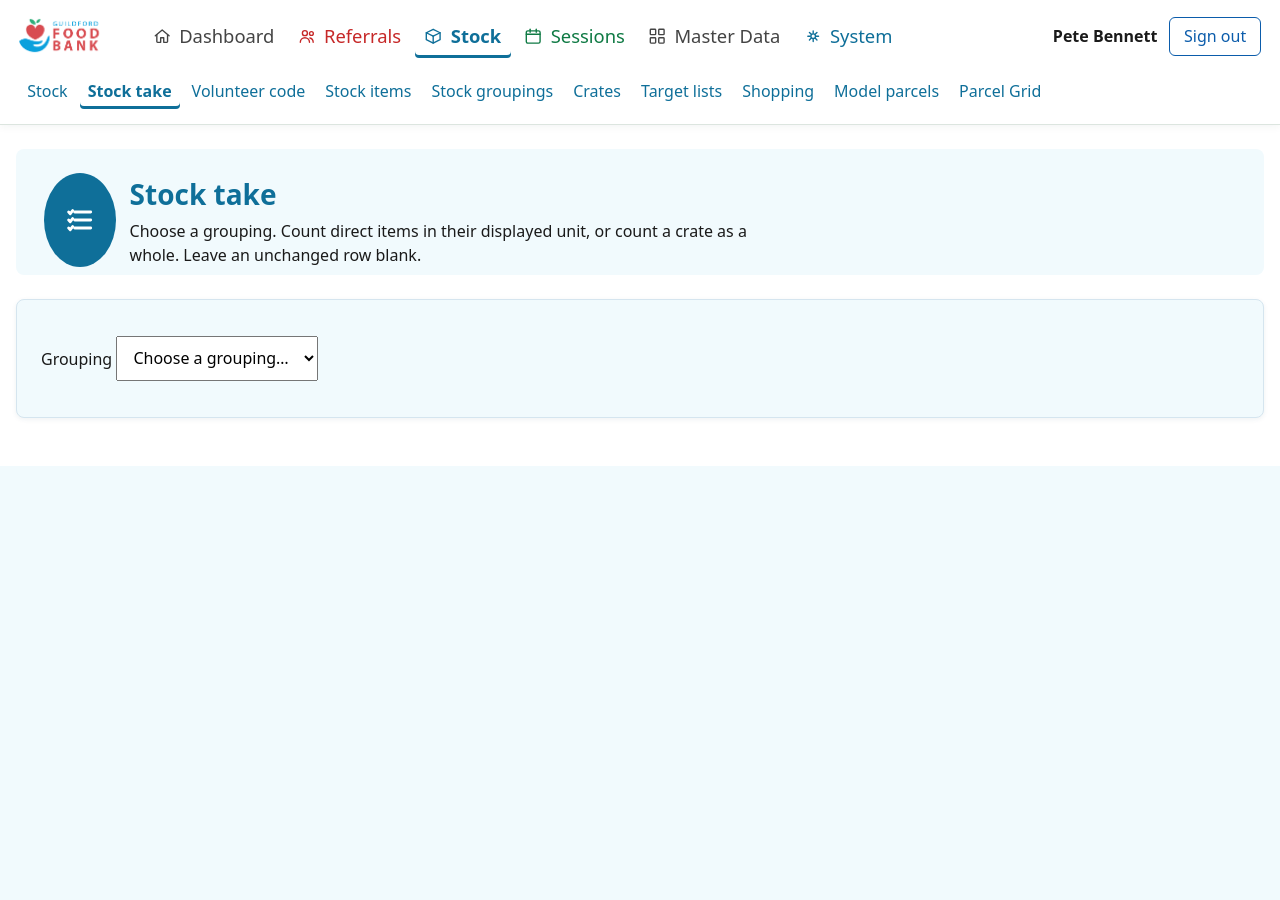
Test case: saving a stock take page › does not post when every entered number matches the current level
Select "Non-perishable" in the dropdown labelled "Grouping" at (217, 358), box [116,336,318,381]
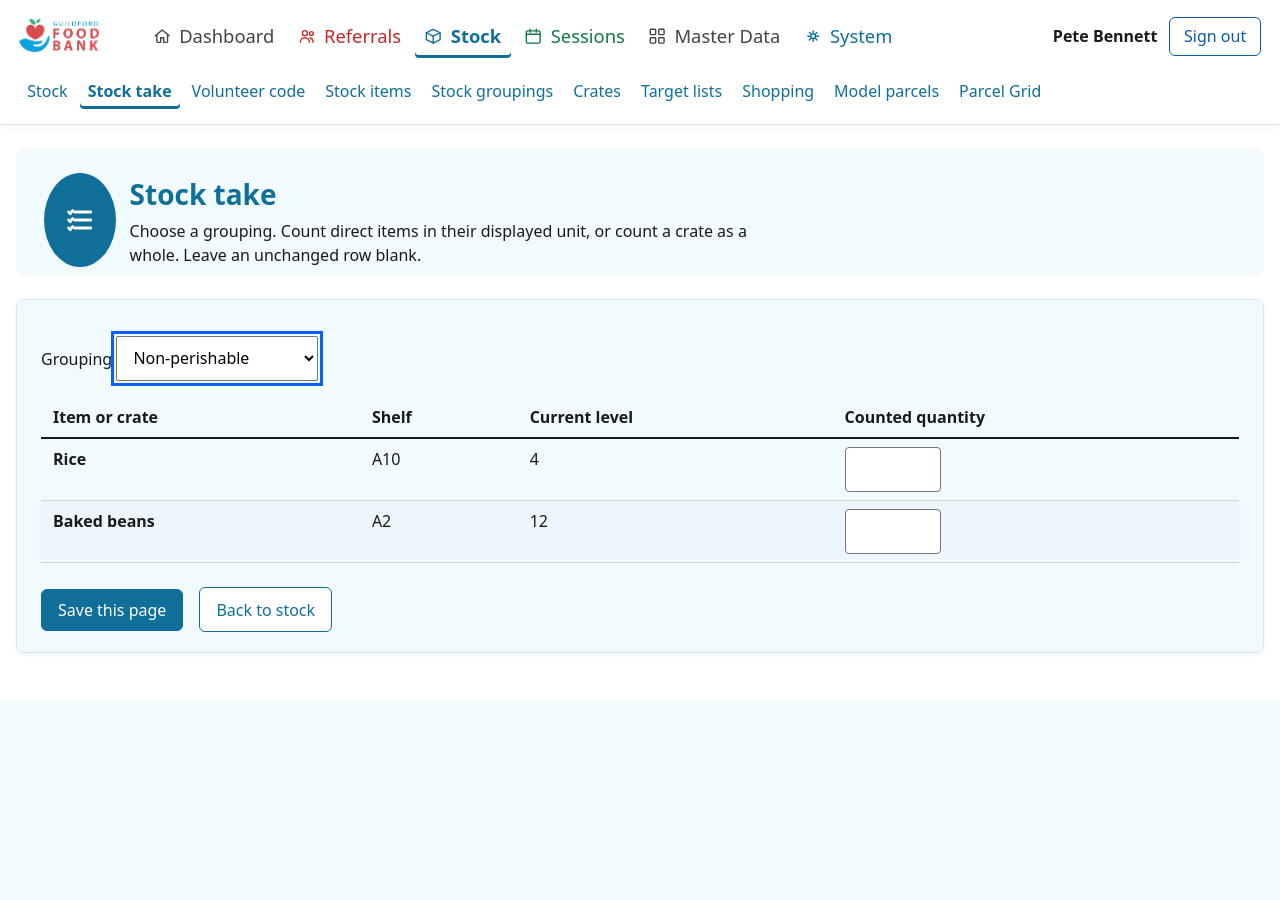
Type "12" into the field named "Counted Baked beans individually" in the row of "Baked beans".
click(892, 532); type("12")  # box [844,509,940,554]
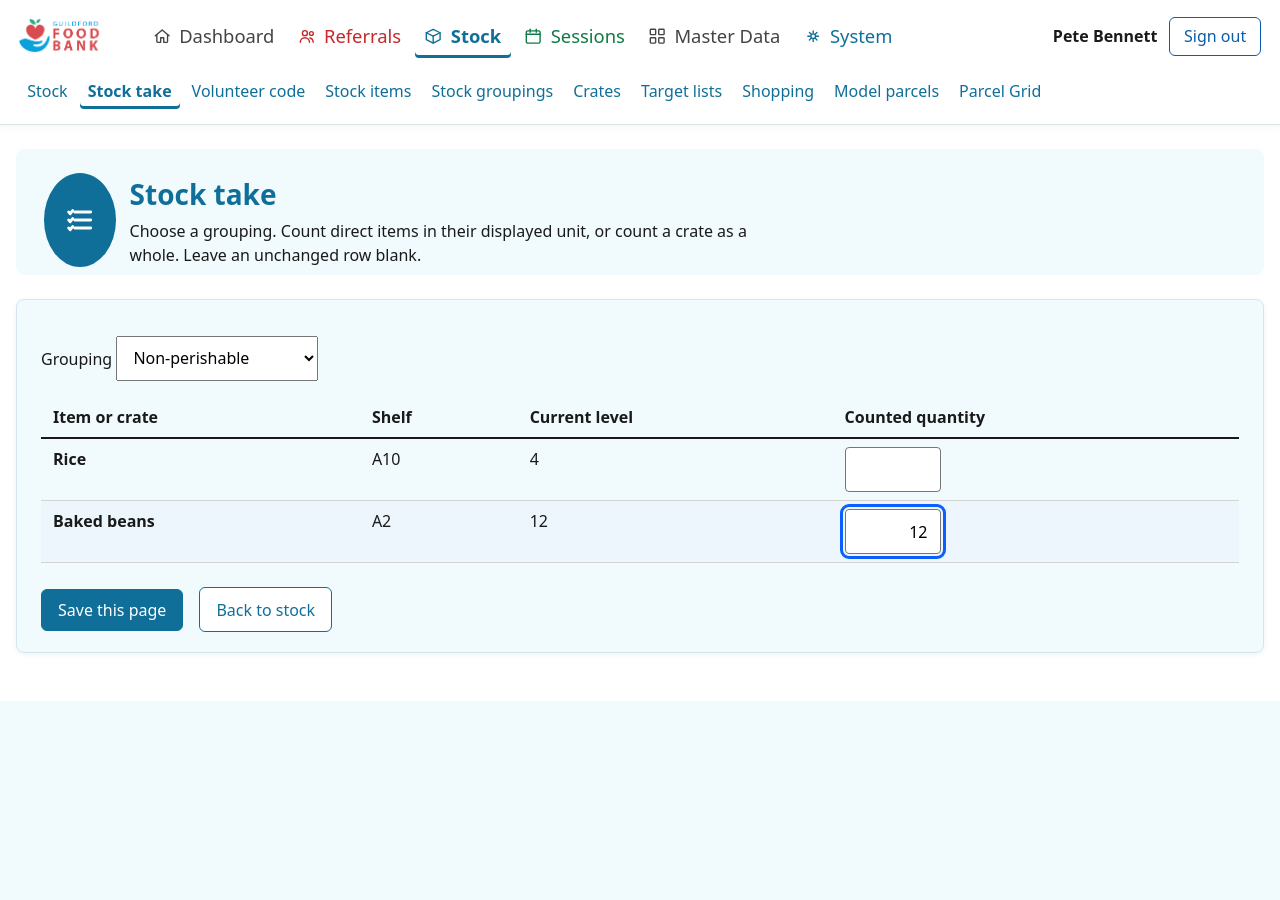
Click the button "Save this page".
click(112, 610)  # box [41,589,183,631]
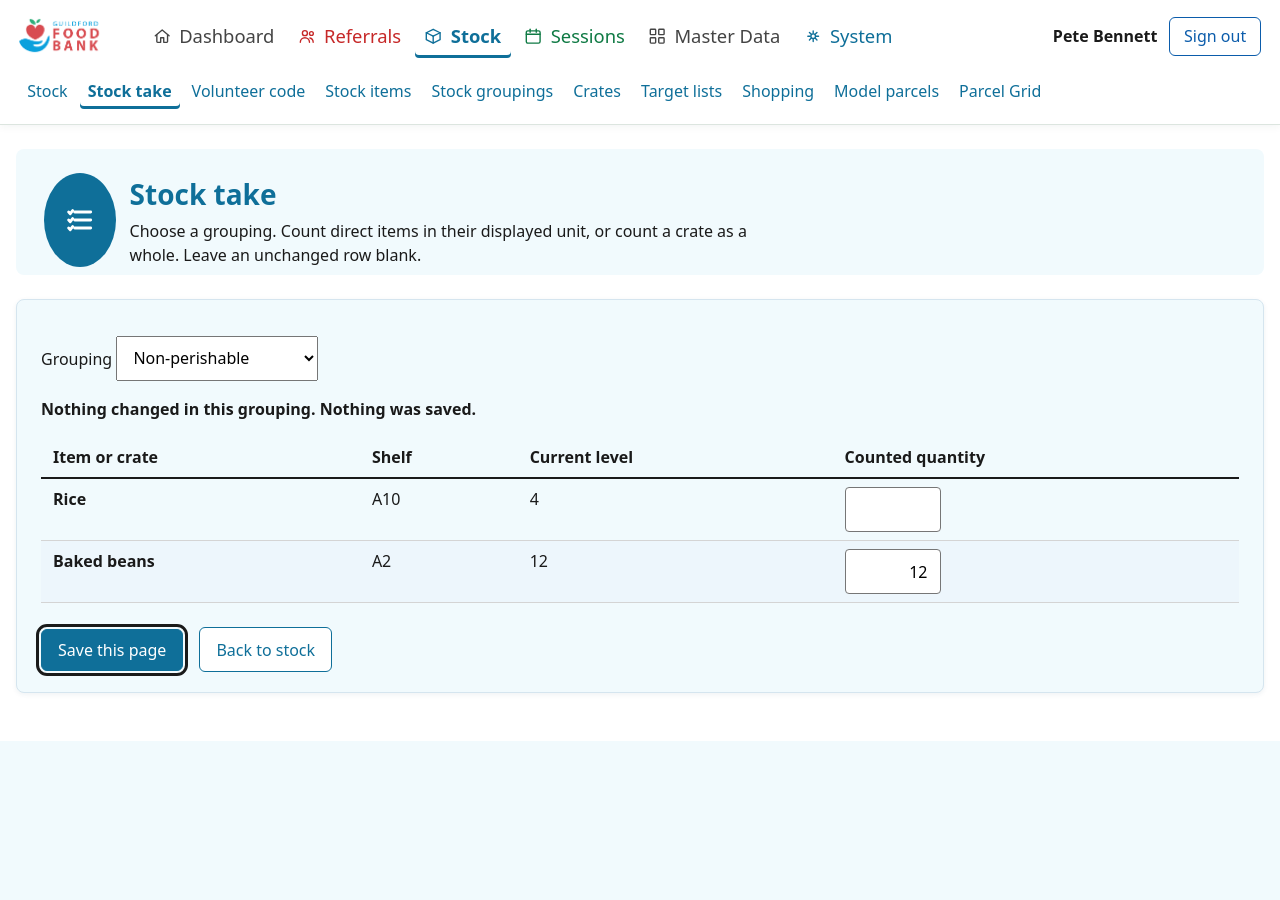
Check: the text "Nothing changed in this grouping. Nothing was saved." is shown, box [41,398,476,420]
